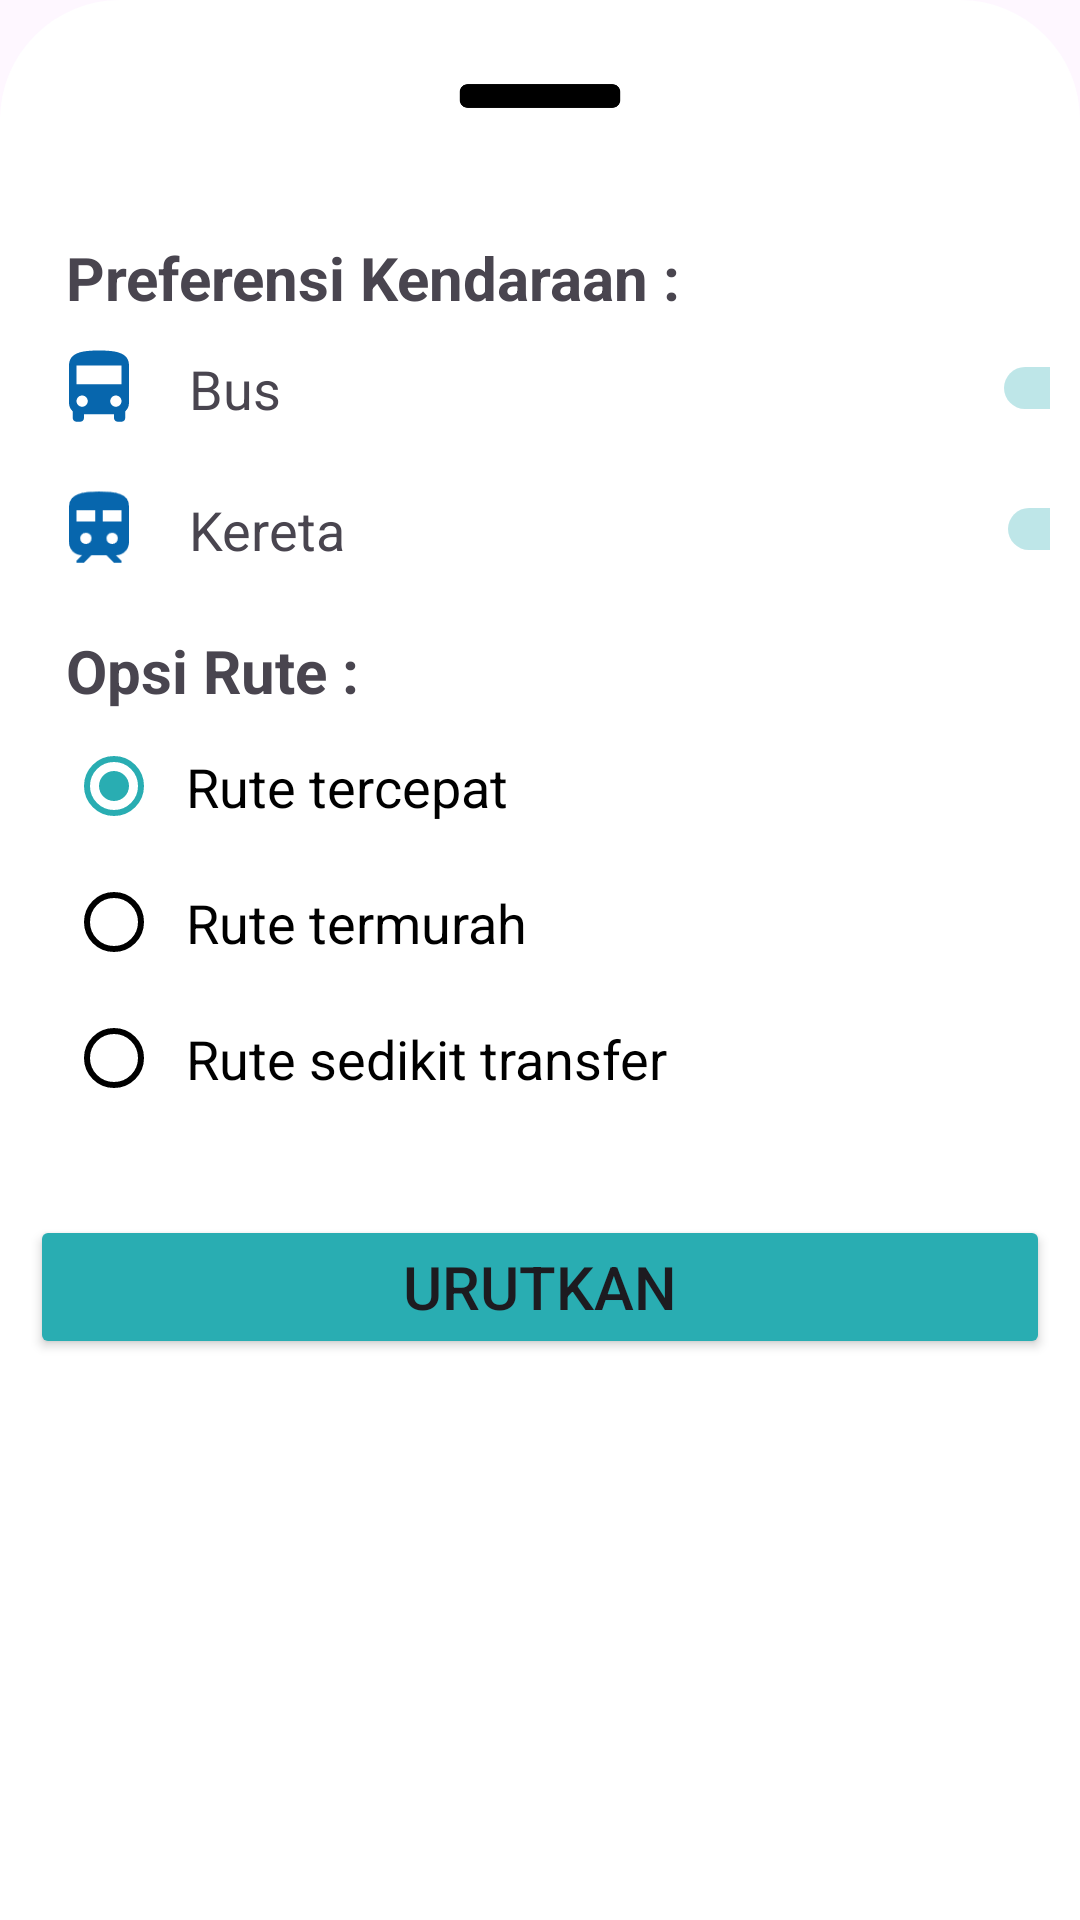

Screen size 1080*1920. Icon name, then its center in pixels as [x,y]:
train: [99,527]
